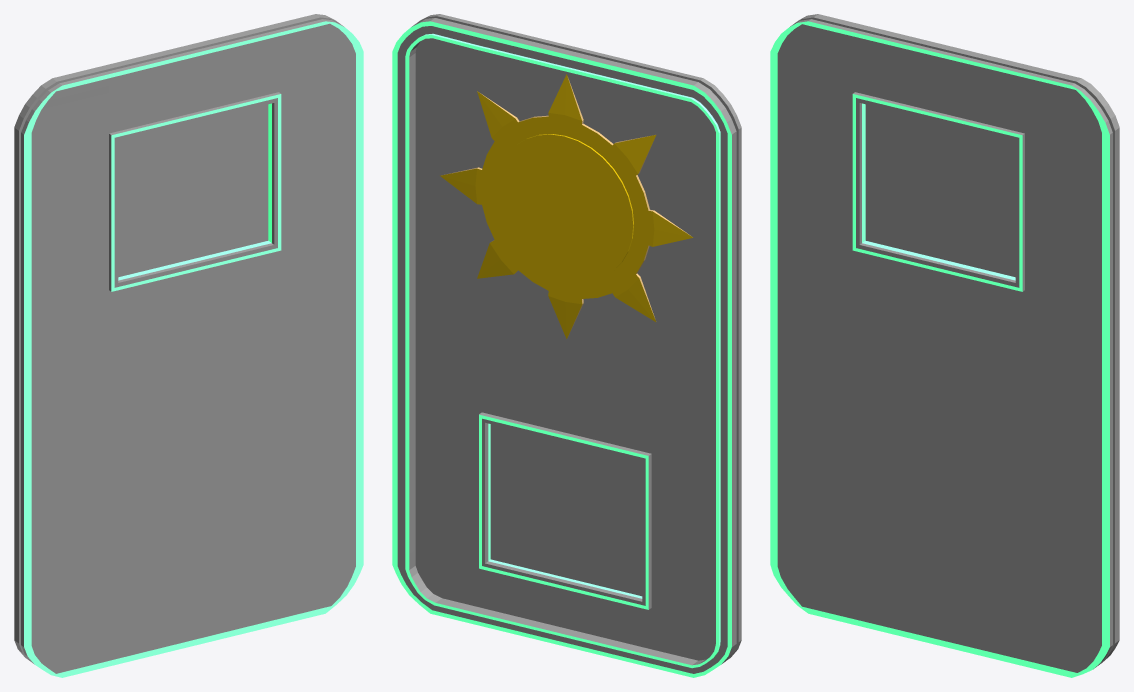
Rendered from Id-Card.fbx.
The picture shows the model from 3 angles, left to right: view 1: azimuth 30°, elevation 25°; view 2: azimuth 150°, elevation 25°; view 3: azimuth 330°, elevation 25°; orthographic projection.
Parts seen in each view (by area): view 1: Base; view 2: Base, Star; view 3: Base.
Part boxes in pixels (x1,y1,x2,y2): Base: (14, 14, 363, 677); Base: (392, 14, 741, 677); Star: (440, 74, 693, 338); Base: (770, 14, 1119, 677).
Size of the model in its own units: 300 by 500 by 21.37.
